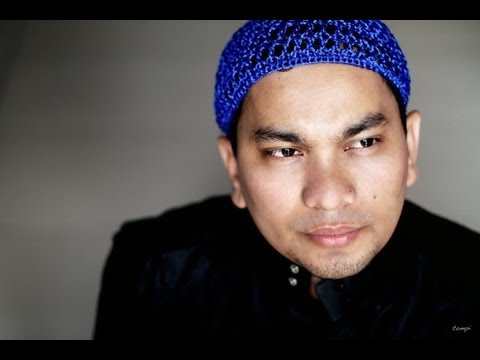tahilalat: (371, 194, 377, 200), (347, 188, 352, 194)
